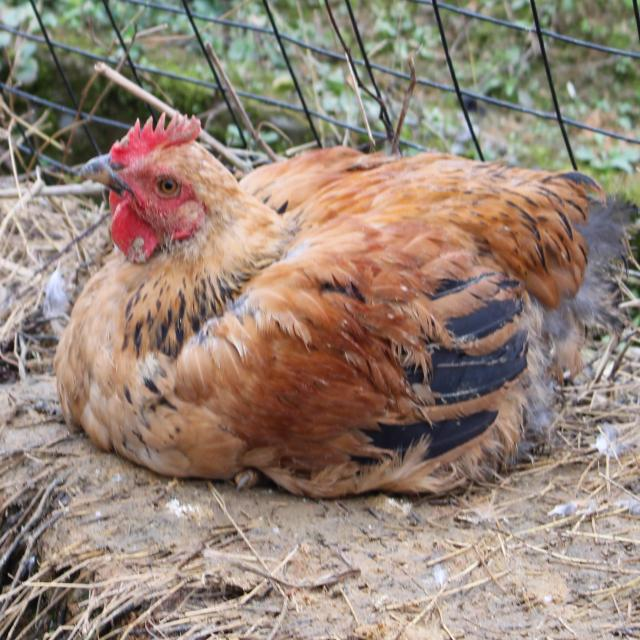hen: (39, 102, 640, 537)
